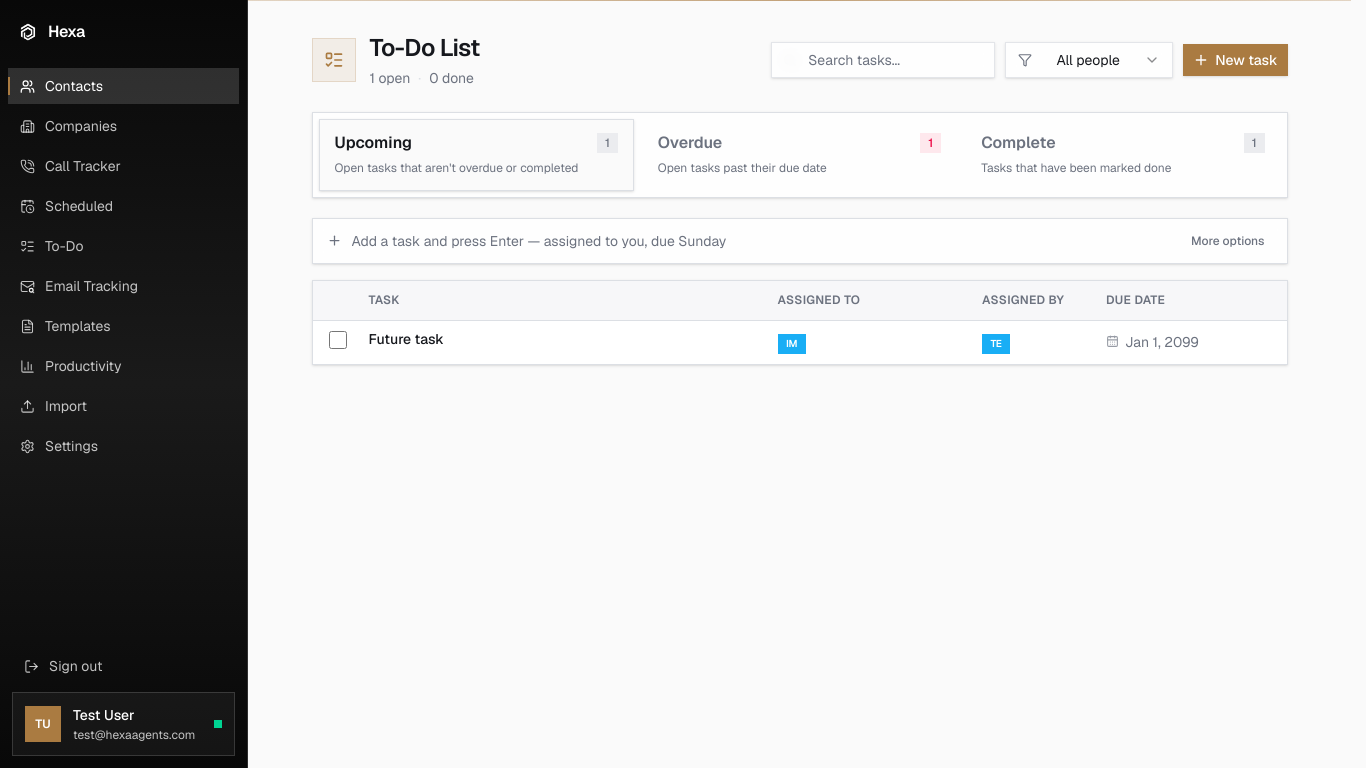
Test: TodoListPage › defaults to the Upcoming section and filters Overdue and Complete
The image size is (1366, 768).
Click the button "Overdue 1 Open tasks past their due date" at x=690, y=142, box [642,119,957,190]
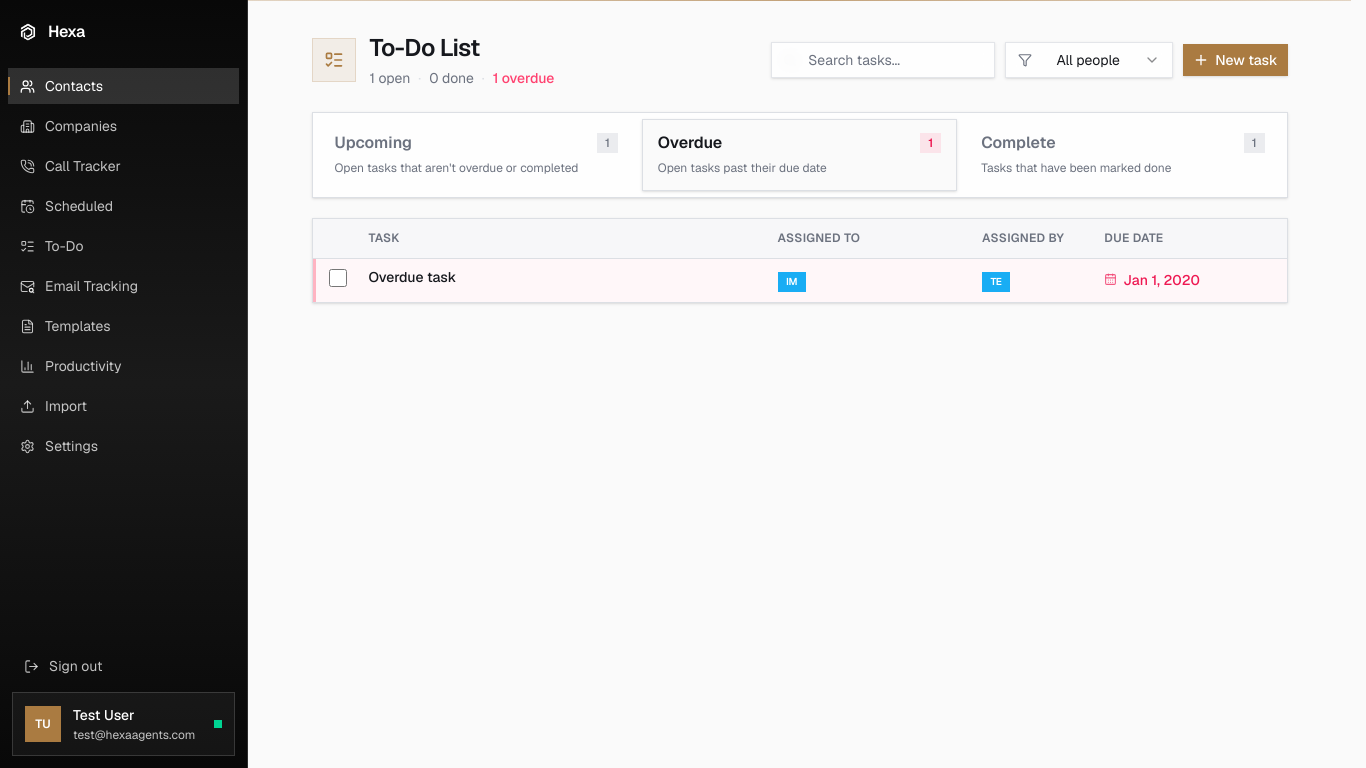
Now no links "Future task" are shown
Click the button "Complete 1 Tasks that have been marked done" at x=1018, y=142, box [965,119,1280,190]
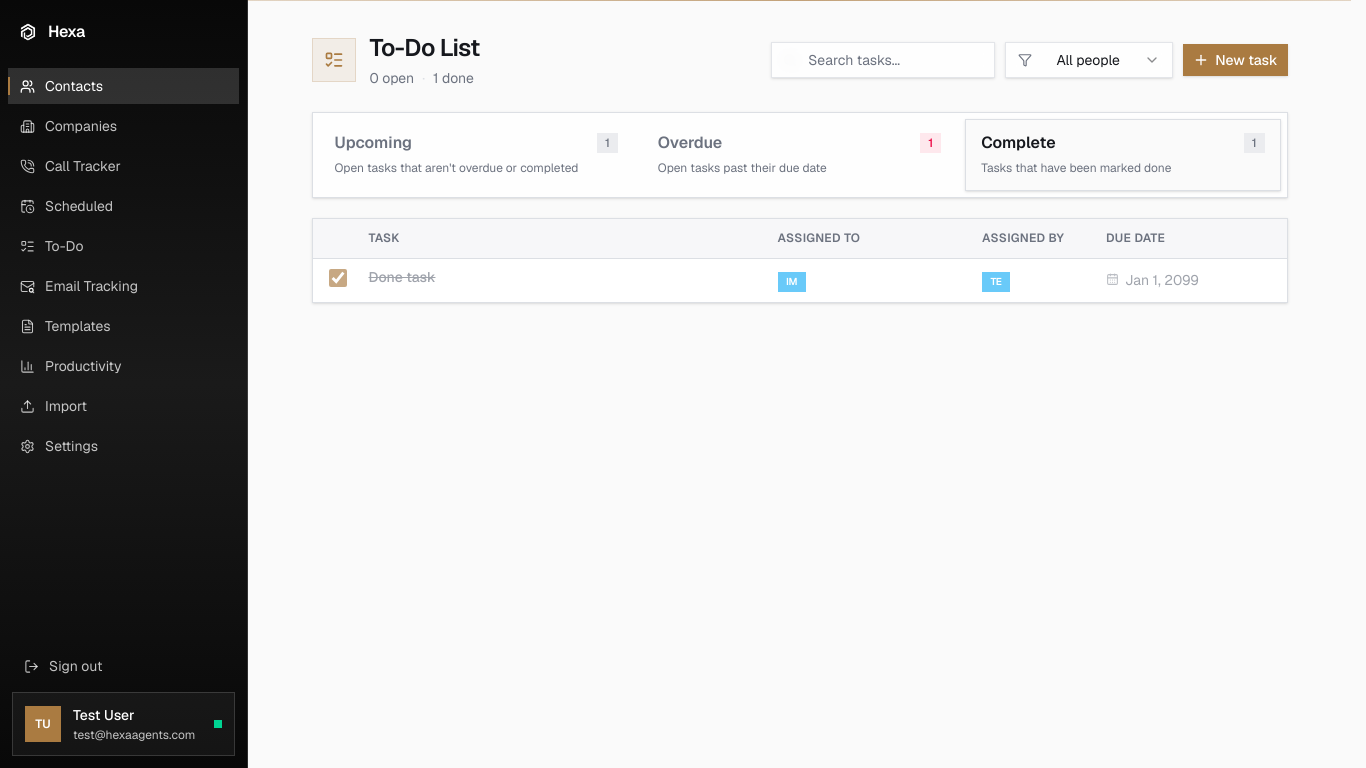
Now no links "Overdue task" are shown
